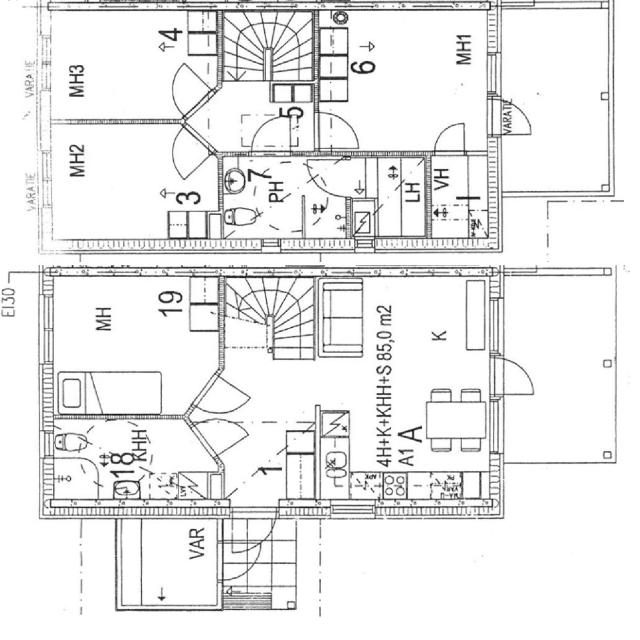door: (170, 119, 214, 180), (169, 62, 217, 115), (195, 374, 254, 415), (193, 415, 250, 452), (317, 109, 361, 151), (248, 113, 292, 154), (497, 356, 537, 396), (430, 119, 468, 157), (497, 103, 534, 136)
window: (34, 288, 60, 368), (484, 295, 510, 359), (485, 395, 508, 456), (328, 500, 377, 521), (484, 51, 504, 100), (528, 0, 608, 10), (35, 149, 54, 185), (260, 238, 281, 252)
zone: (326, 278, 495, 506), (318, 9, 488, 155), (43, 276, 216, 419), (44, 118, 206, 242), (40, 9, 205, 123), (50, 420, 205, 507), (218, 156, 372, 238), (123, 517, 220, 608), (428, 155, 492, 240), (372, 156, 426, 240)
